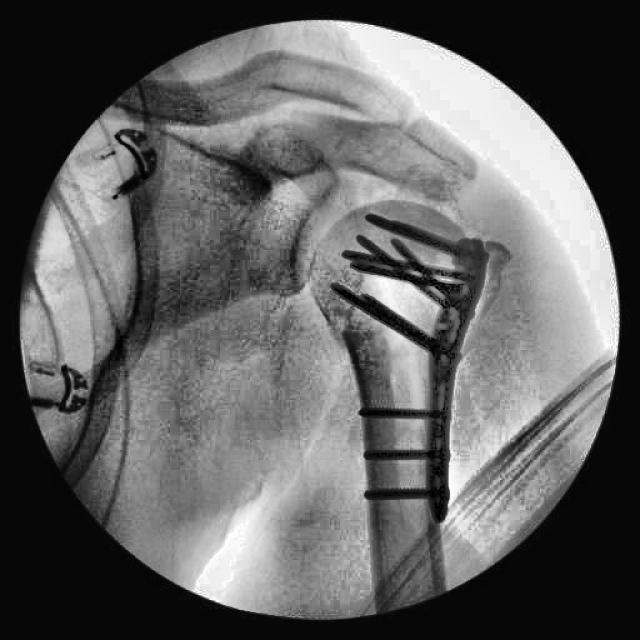shoulder fracture: (347, 80, 463, 178), (298, 299, 384, 382)
